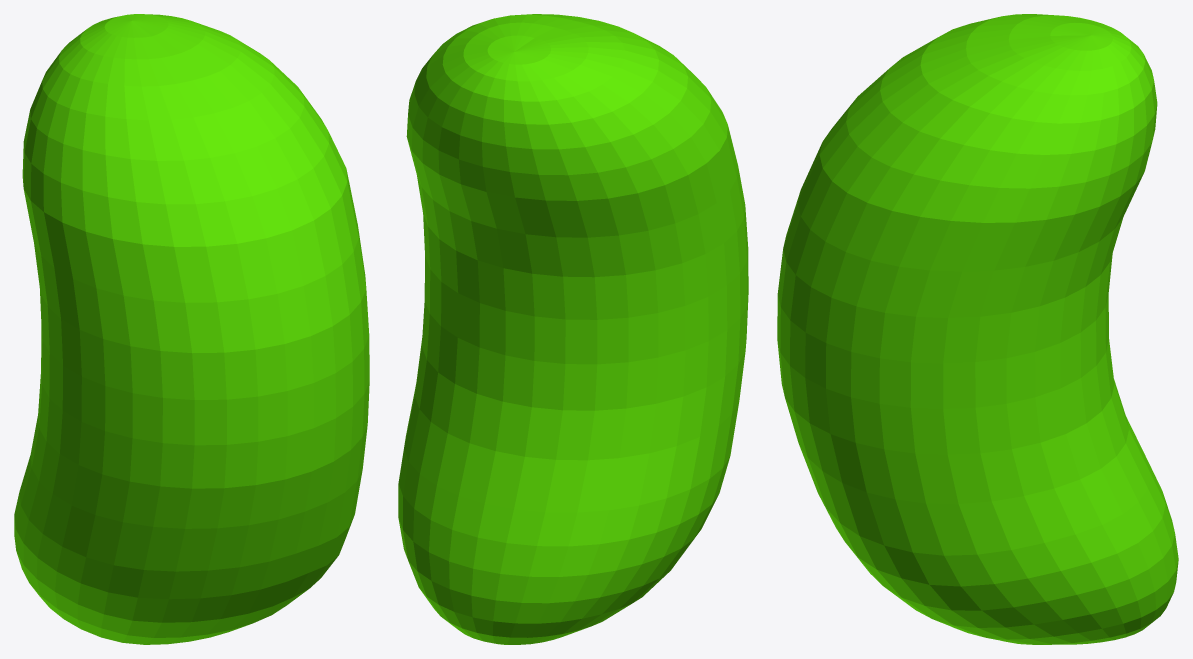
The model's file is seed part1.gltf.
The picture shows the model from 3 angles, left to right: view 1: azimuth 30°, elevation 25°; view 2: azimuth 150°, elevation 25°; view 3: azimuth 270°, elevation 25°; orthographic projection. The views are drawn at different scales.
Visible parts, largest first — view 1: Sphere.001; view 2: Sphere.001; view 3: Sphere.001.
Boxes of the visible parts, <box> form: Sphere.001: <box>14,14,369,644</box>; Sphere.001: <box>398,14,748,644</box>; Sphere.001: <box>777,14,1178,644</box>.
Bounding box in the file's own units: 0.8365 × 1.63 × 1.
